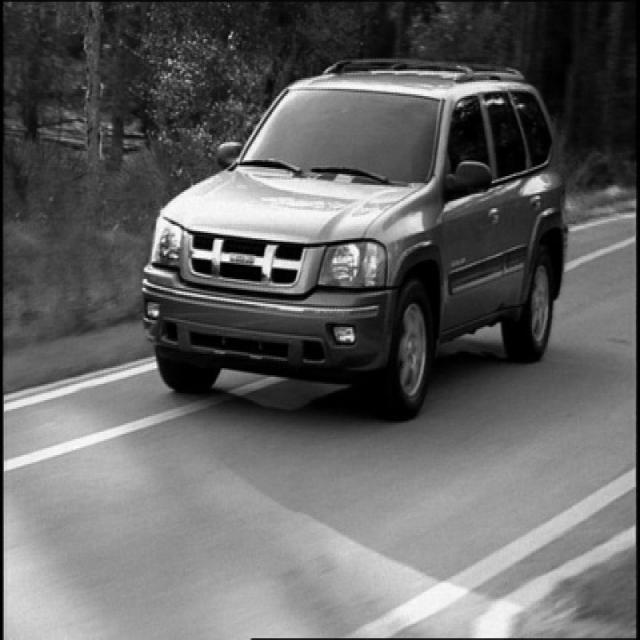car: (140, 55, 568, 418)
